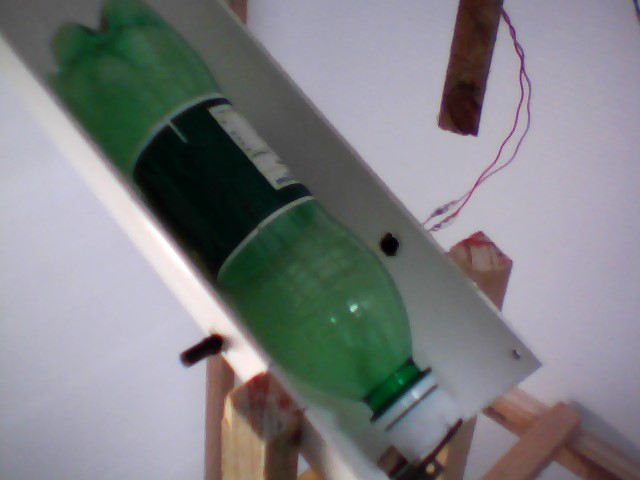plastico: (41, 1, 466, 465)
